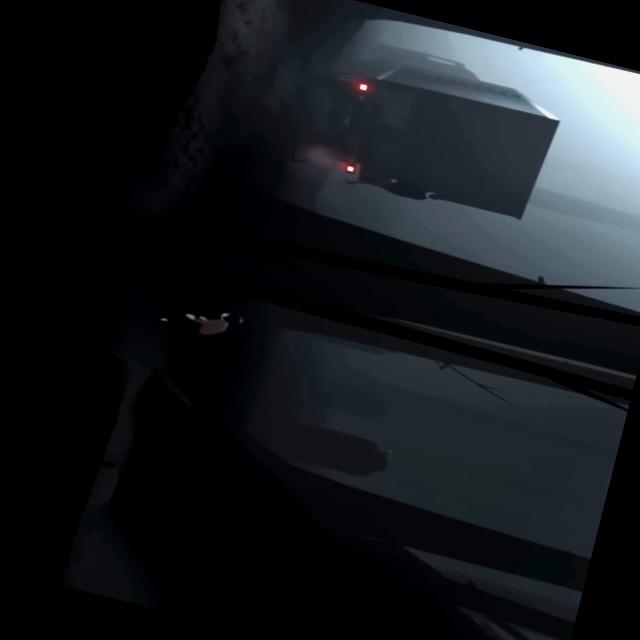boy: (154, 293, 245, 343)
